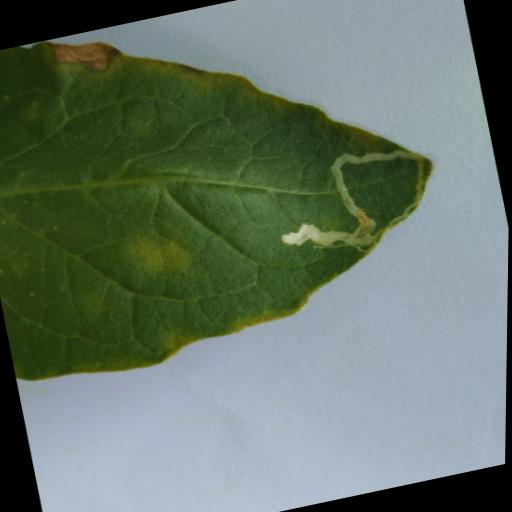Leaf_Miner: (233, 100, 463, 314)
